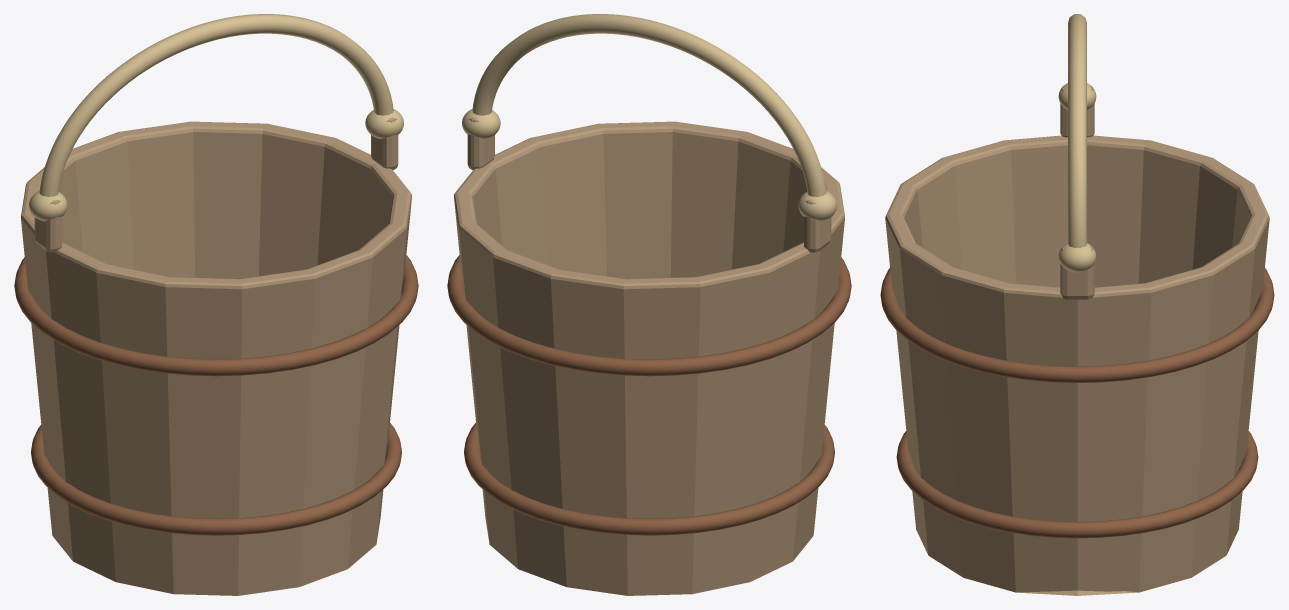
Rendered from Balde.glb.
The picture shows the model from 3 angles, left to right: view 1: azimuth 30°, elevation 25°; view 2: azimuth 150°, elevation 25°; view 3: azimuth 270°, elevation 25°; orthographic projection. The views are drawn at different scales.
Parts seen in each view (by area): view 1: Bucket_Body, Bucket_Handle, Bucket_Hoop_0.74, Bucket_Hoop_0.22, Bucket_Ear, Bucket_Ear.001, Bucket_Knot, Bucket_Knot.001; view 2: Bucket_Body, Bucket_Handle, Bucket_Hoop_0.74, Bucket_Hoop_0.22, Bucket_Ear, Bucket_Ear.001, Bucket_Knot, Bucket_Knot.001; view 3: Bucket_Body, Bucket_Hoop_0.74, Bucket_Hoop_0.22, Bucket_Handle, Bucket_Ear.001, Bucket_Knot.001.
Boxes of the visible parts, x1=… form: Bucket_Body: x1=21, y1=121, x2=411, y2=595; Bucket_Handle: x1=39, y1=14, x2=393, y2=196; Bucket_Hoop_0.74: x1=14, y1=255, x2=418, y2=376; Bucket_Hoop_0.22: x1=31, y1=423, x2=401, y2=535; Bucket_Ear: x1=34, y1=190, x2=61, y2=252; Bucket_Ear.001: x1=371, y1=117, x2=398, y2=169; Bucket_Knot: x1=29, y1=191, x2=67, y2=221; Bucket_Knot.001: x1=365, y1=109, x2=403, y2=138; Bucket_Body: x1=454, y1=121, x2=844, y2=595; Bucket_Handle: x1=472, y1=14, x2=826, y2=196; Bucket_Hoop_0.74: x1=447, y1=255, x2=851, y2=376; Bucket_Hoop_0.22: x1=464, y1=423, x2=834, y2=535; Bucket_Ear: x1=804, y1=190, x2=831, y2=252; Bucket_Ear.001: x1=467, y1=117, x2=494, y2=169; Bucket_Knot: x1=798, y1=191, x2=836, y2=221; Bucket_Knot.001: x1=462, y1=109, x2=500, y2=138; Bucket_Body: x1=885, y1=135, x2=1269, y2=595; Bucket_Hoop_0.74: x1=880, y1=268, x2=1274, y2=382; Bucket_Hoop_0.22: x1=896, y1=431, x2=1258, y2=538; Bucket_Handle: x1=1068, y1=14, x2=1086, y2=247; Bucket_Ear.001: x1=1060, y1=245, x2=1094, y2=299; Bucket_Knot.001: x1=1058, y1=243, x2=1096, y2=272.
Size of the model in its own units: 1.21 by 1.58 by 1.15.
